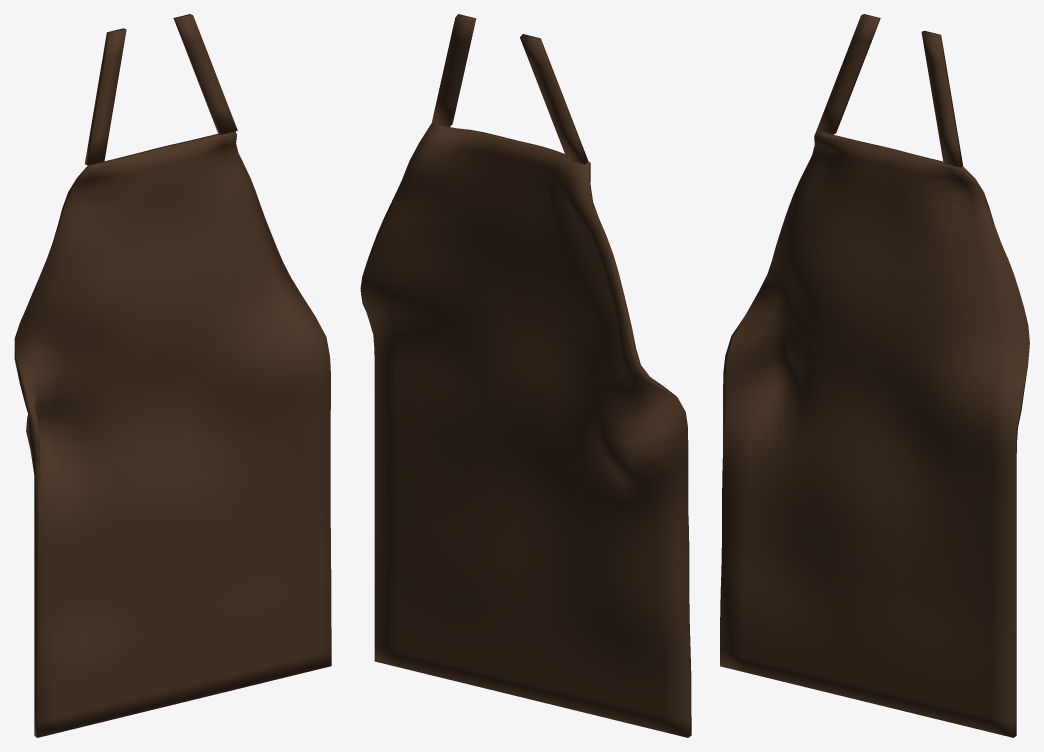
The model's file is kleidung.schuerze.glb.
The picture shows the model from 3 angles, left to right: view 1: azimuth 30°, elevation 25°; view 2: azimuth 150°, elevation 25°; view 3: azimuth 330°, elevation 25°; orthographic projection. The views are drawn at different scales.
Parts seen in each view (by area): view 1: schuerze; view 2: schuerze; view 3: schuerze.
Part boxes in pixels (x1,y1,x2,y2): schuerze: [14, 14, 331, 737]; schuerze: [360, 14, 691, 737]; schuerze: [720, 14, 1029, 737].
Bounding box in the file's own units: 0.4405 × 0.9349 × 0.0971.
